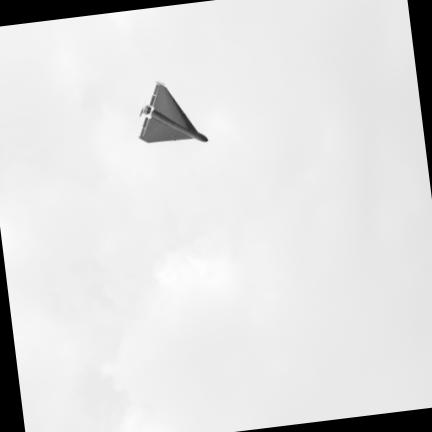Shahed: (139, 81, 207, 140)
